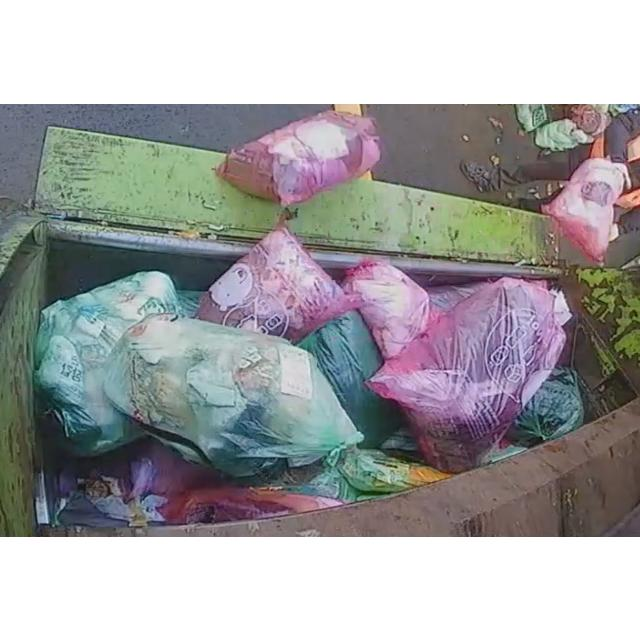general_trashbag: (104, 313, 362, 476), (35, 270, 179, 454), (299, 309, 402, 448), (515, 366, 584, 439), (535, 118, 594, 150), (516, 103, 549, 130)
other_trashbag: (369, 277, 566, 471), (199, 220, 359, 340), (216, 109, 380, 206), (541, 157, 630, 262), (342, 258, 429, 359)
